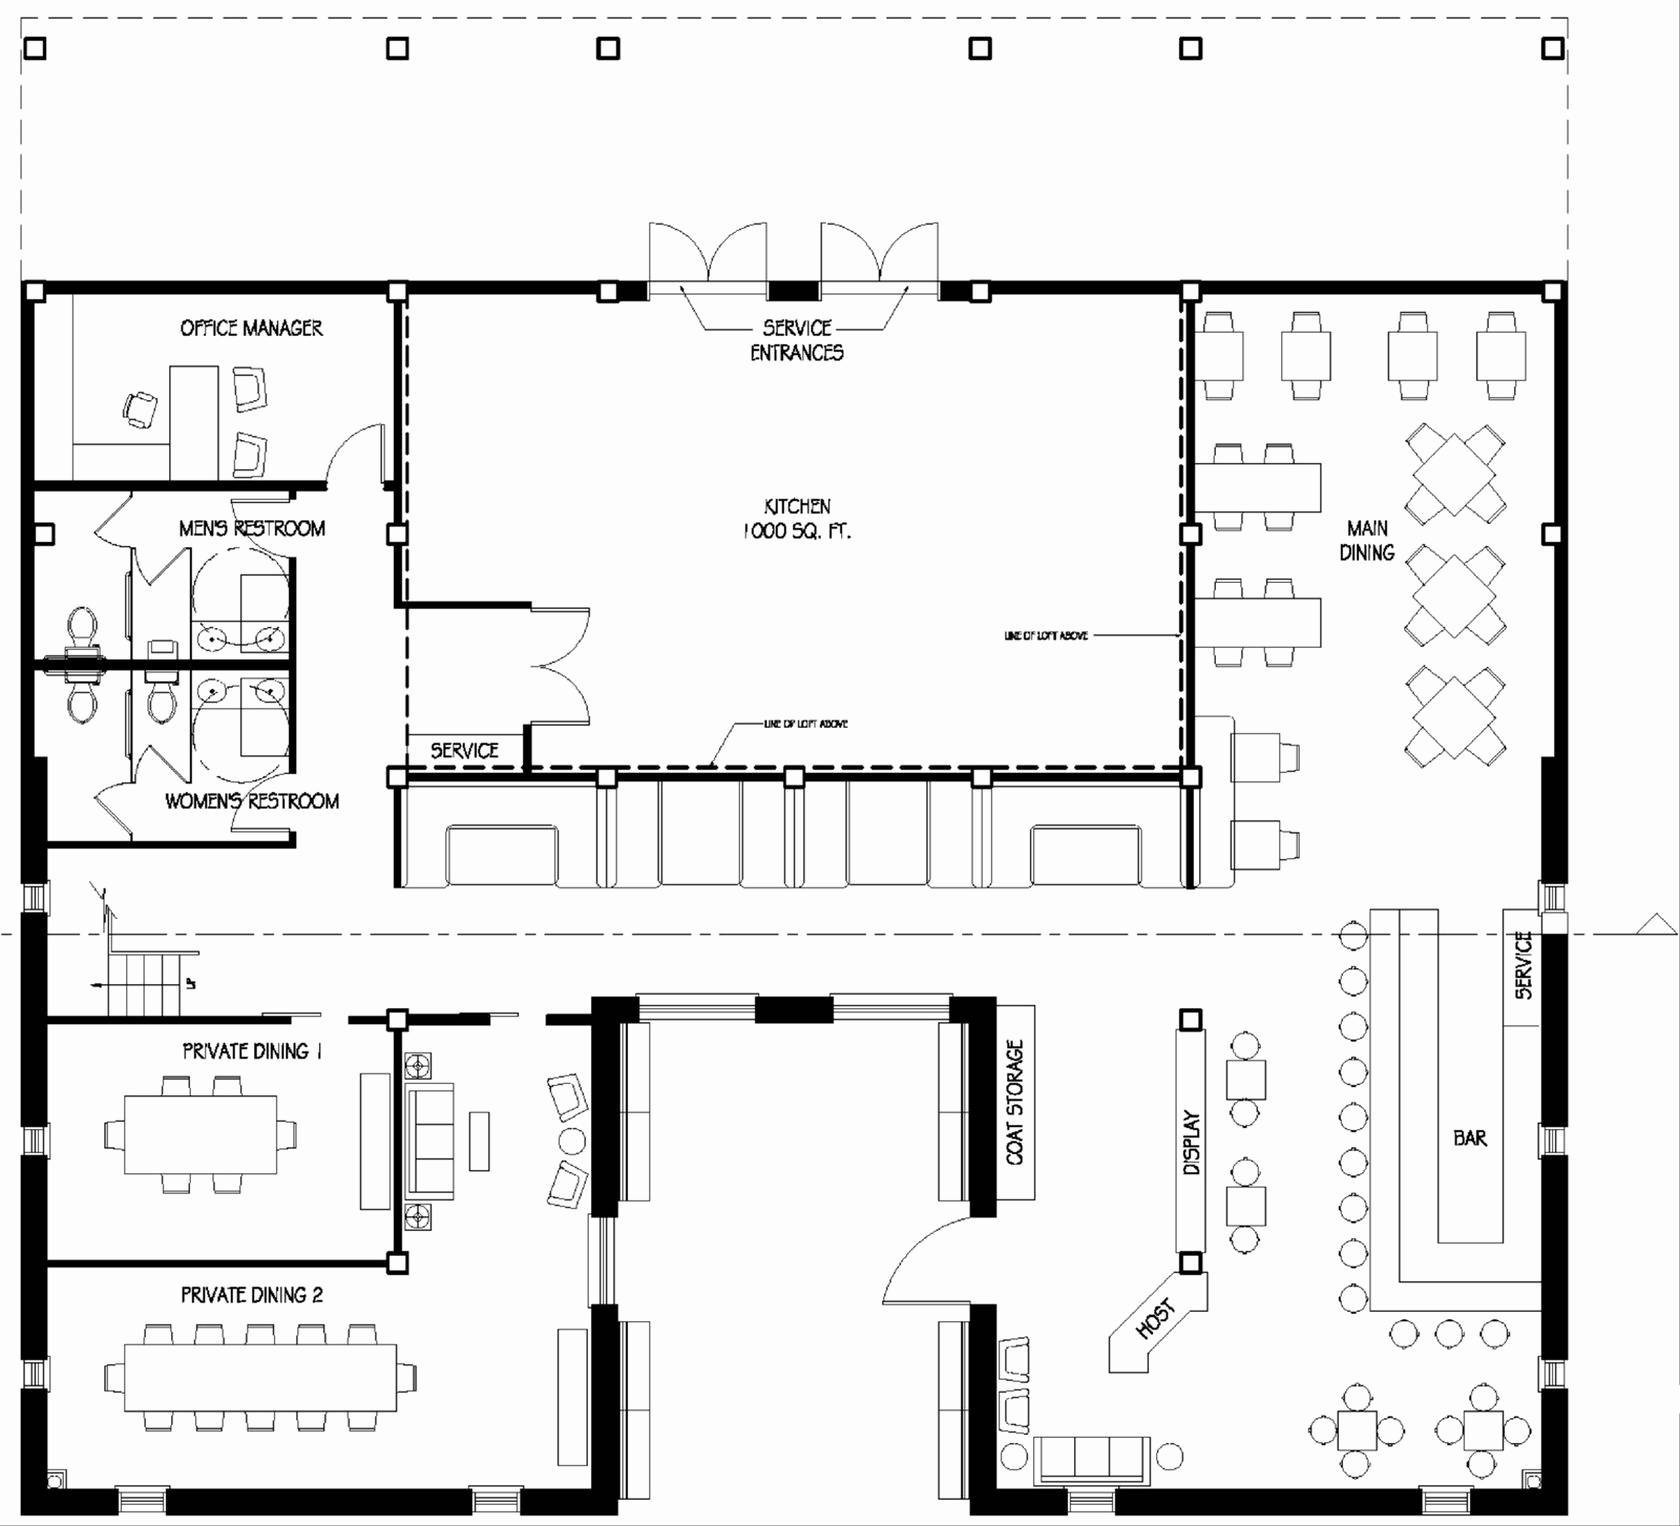room: (20, 849, 47, 884), (620, 996, 640, 1023), (383, 480, 402, 490)
wall: (527, 768, 1185, 781), (1180, 282, 1196, 781), (1553, 278, 1566, 882), (167, 1489, 471, 1514), (1117, 1489, 1418, 1514), (588, 1304, 619, 1514), (593, 998, 620, 1217), (967, 1305, 997, 1511), (1188, 279, 1559, 296), (1540, 1154, 1569, 1358), (967, 1023, 997, 1217), (20, 914, 47, 1127), (1540, 933, 1567, 1127), (383, 1010, 405, 1252), (18, 281, 401, 294), (394, 278, 408, 609), (25, 1258, 389, 1270), (20, 478, 323, 492), (940, 279, 1188, 294), (20, 1388, 48, 1514), (1541, 1388, 1567, 1514), (19, 486, 37, 670), (19, 658, 293, 670), (402, 279, 645, 293), (20, 1157, 48, 1264), (20, 277, 34, 492), (967, 1488, 1068, 1516), (19, 1261, 47, 1359), (20, 667, 35, 843), (1469, 1489, 1567, 1514), (20, 841, 293, 850), (521, 1489, 612, 1516), (389, 768, 531, 784), (755, 996, 834, 1023), (47, 1488, 121, 1514), (290, 557, 299, 764), (45, 1017, 288, 1024), (514, 724, 540, 789), (398, 595, 546, 606), (950, 996, 997, 1026), (397, 1011, 489, 1026), (768, 279, 818, 301), (544, 1014, 626, 1024), (347, 1014, 405, 1024)
